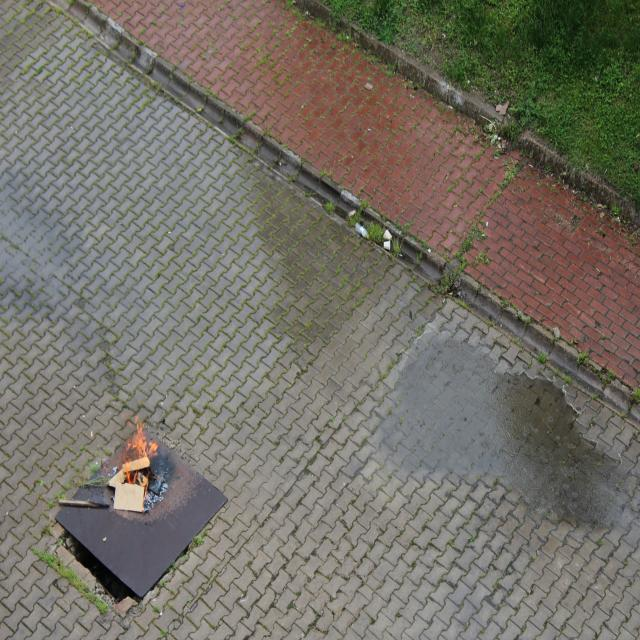fire: (108, 422, 161, 497)
